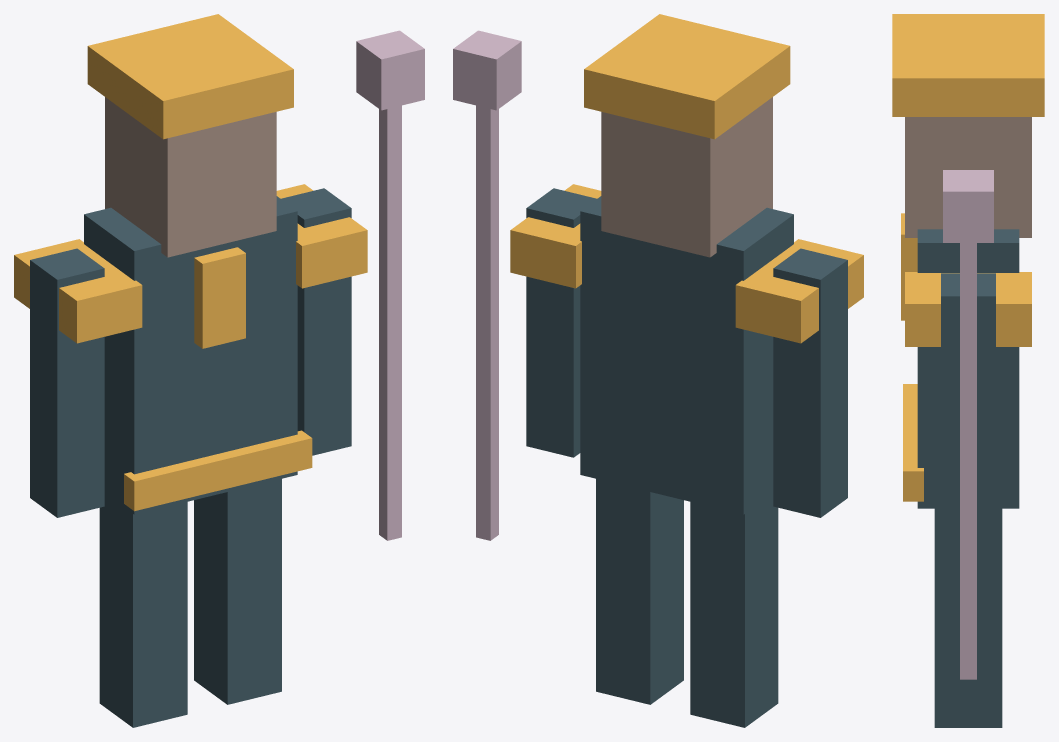
The model's file is 07_kael_ironwake_tactician_at_maintenance.glb.
The picture shows the model from 3 angles, left to right: view 1: azimuth 30°, elevation 25°; view 2: azimuth 150°, elevation 25°; view 3: azimuth 270°, elevation 25°; orthographic projection.
Parts seen in each view (by area): view 1: Kael Ironwake, Tactician at Maintenance; view 2: Kael Ironwake, Tactician at Maintenance; view 3: Kael Ironwake, Tactician at Maintenance.
Boxes of the visible parts, bbox=[...] form: Kael Ironwake, Tactician at Maintenance: bbox=[14, 14, 424, 727]; Kael Ironwake, Tactician at Maintenance: bbox=[453, 14, 863, 727]; Kael Ironwake, Tactician at Maintenance: bbox=[892, 14, 1044, 727].
Bounding box in the file's own units: 0.9572 × 1.59 × 0.3395.
